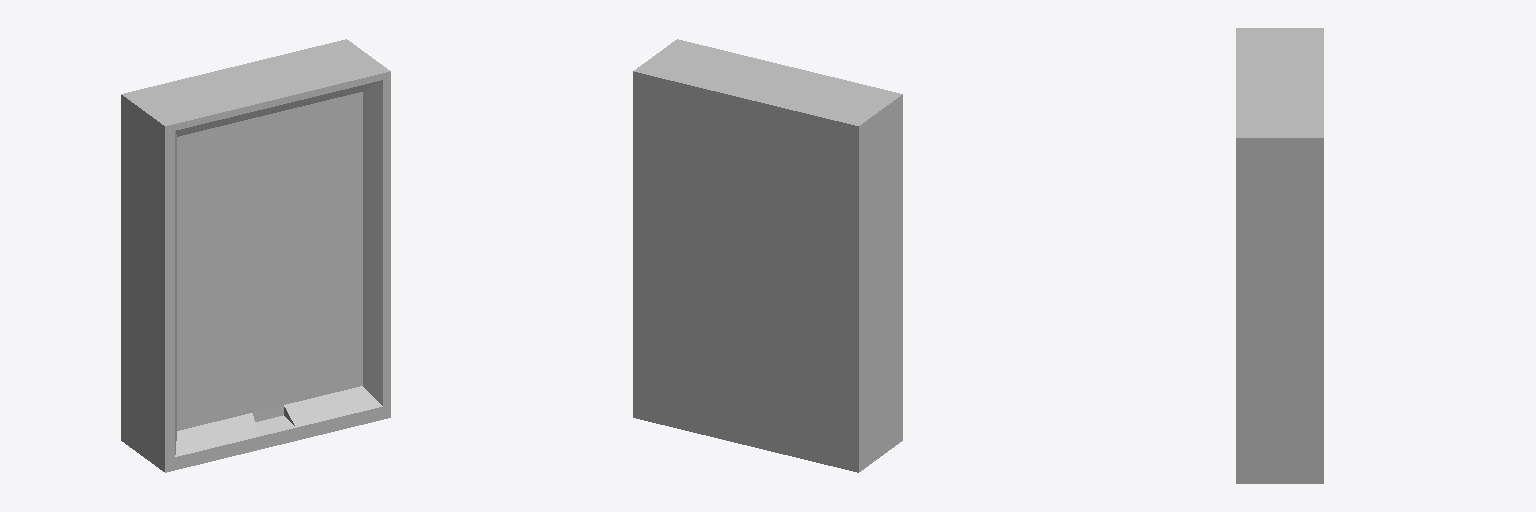
Rendered from Frame.obj.
The picture shows the model from 3 angles: view 1: azimuth 30°, elevation 25°; view 2: azimuth 150°, elevation 25°; view 3: azimuth 270°, elevation 25°; orthographic projection.
Visible parts, largest first — view 1: Frame; view 2: Frame; view 3: Frame.
Boxes of the visible parts, <box> form: Frame: <box>121,39,390,472</box>; Frame: <box>633,39,902,472</box>; Frame: <box>1236,28,1323,483</box>.
Size of the model in its own units: 1.48 by 2.17 by 0.5.